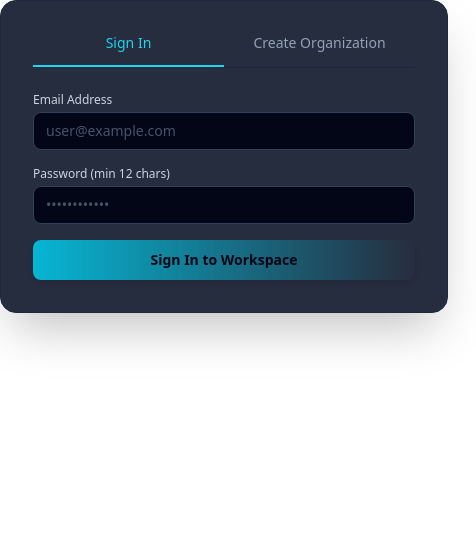
Test: AuthCard Component (A01-R10, A12-R01) › switches to register tab and displays organization fields
Click the tab "Create Organization": (320, 50) [224, 33, 415, 67]
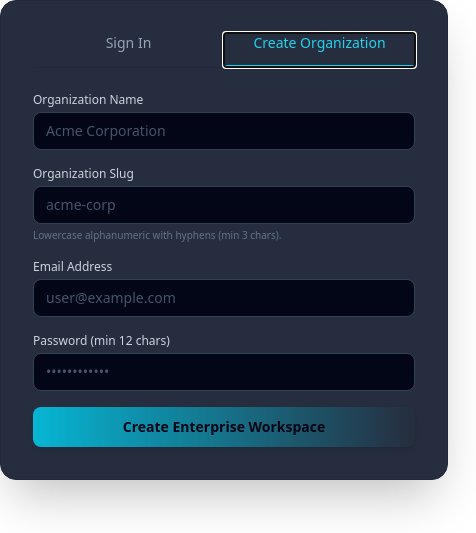
expect the field labelled "Organization Name" is shown: met, box [33, 112, 415, 150]
expect the field labelled "Organization Slug" is shown: met, box [33, 186, 415, 224]
expect the button "Create Enterprise Workspace" is shown: met, box [33, 407, 415, 447]
